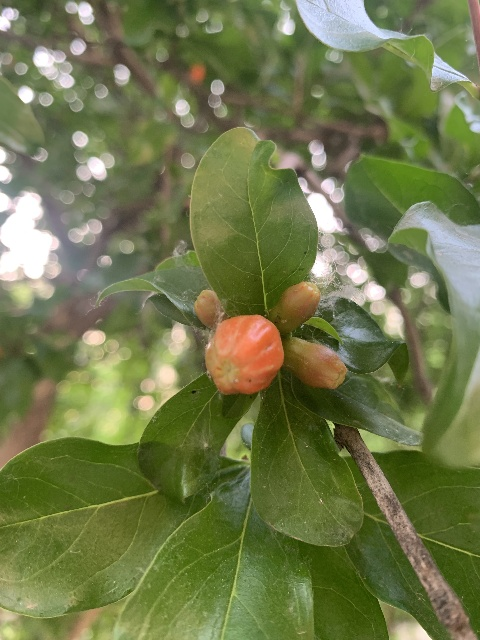bud: (205, 313, 283, 395), (280, 336, 347, 388), (268, 281, 321, 333), (193, 289, 229, 329)
